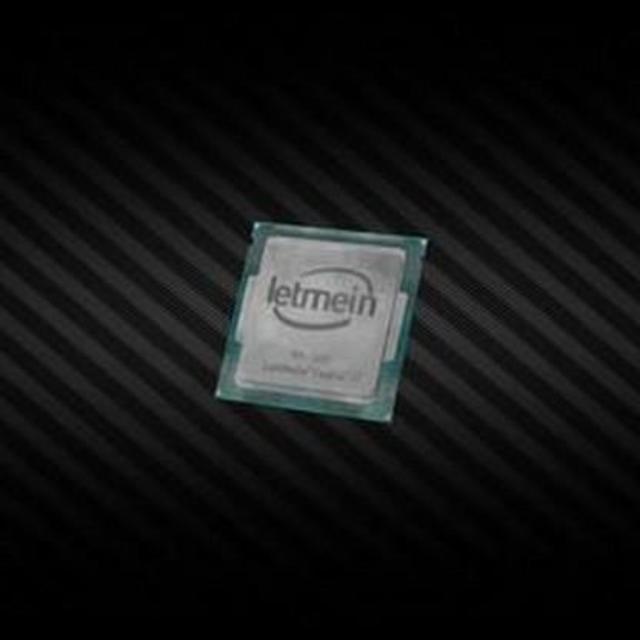CPU: (216, 225, 421, 427)
